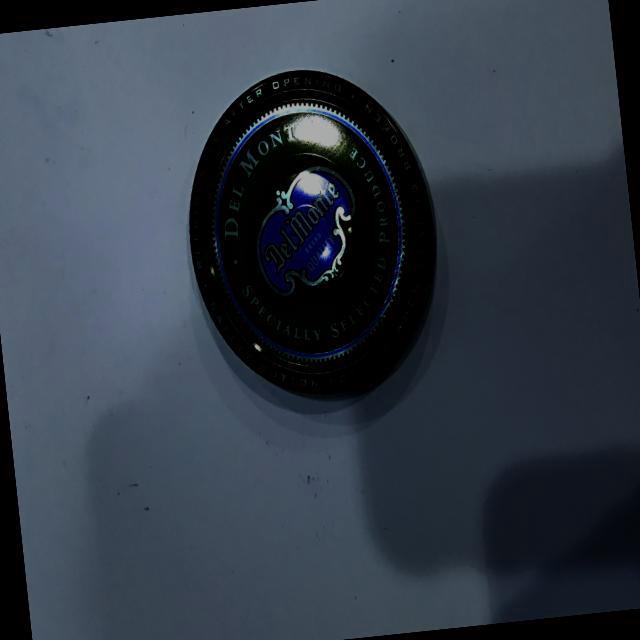metal: (160, 32, 462, 420)
